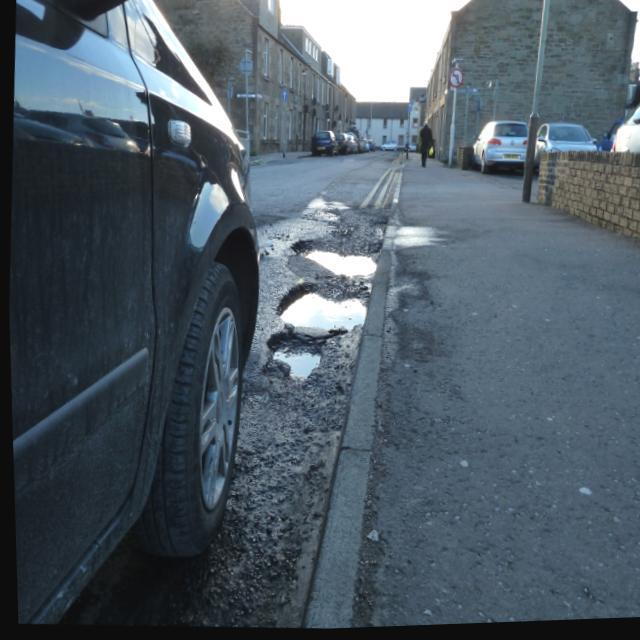Pothole: (267, 279, 370, 385), (298, 243, 374, 279)
